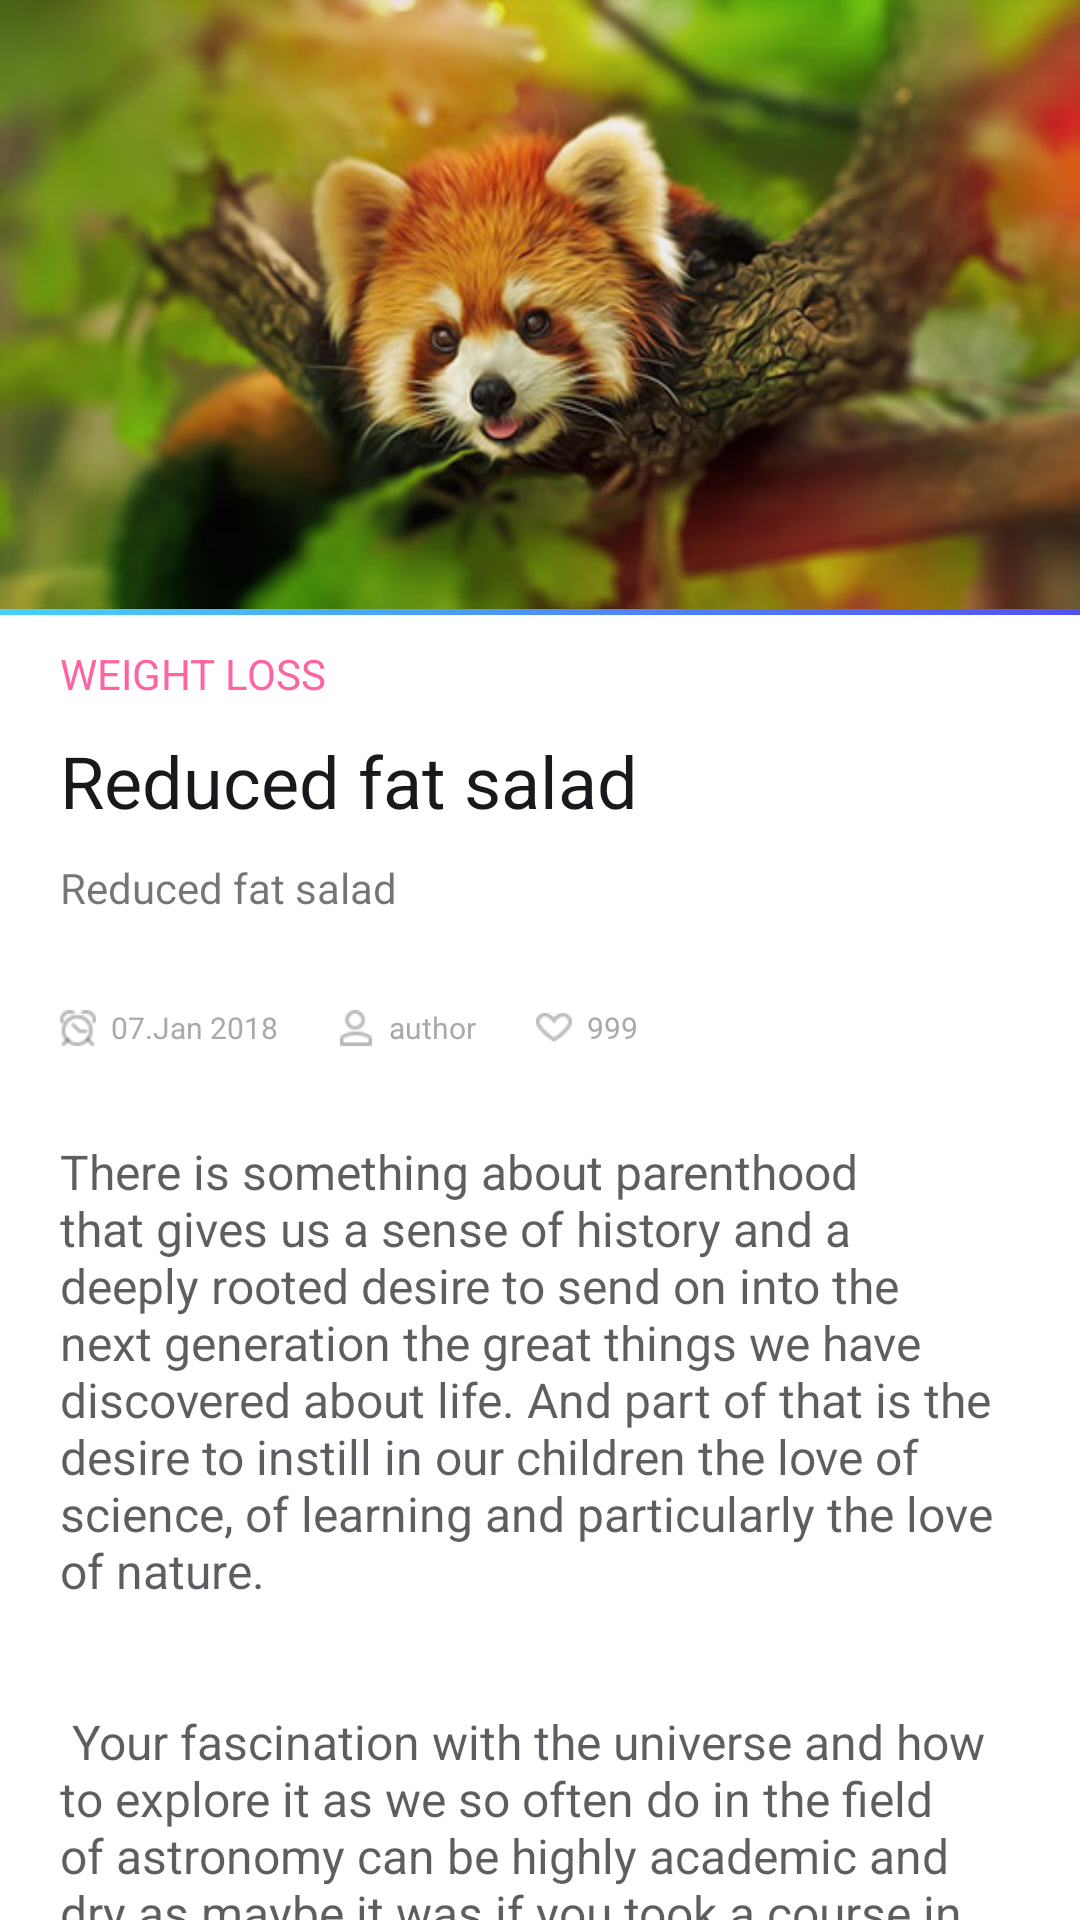

Icons on this 1080*1920 Android screen, each with the point to tap as (x=x, y=y):
like: (x=554, y=1027)
time: (x=78, y=1028)
